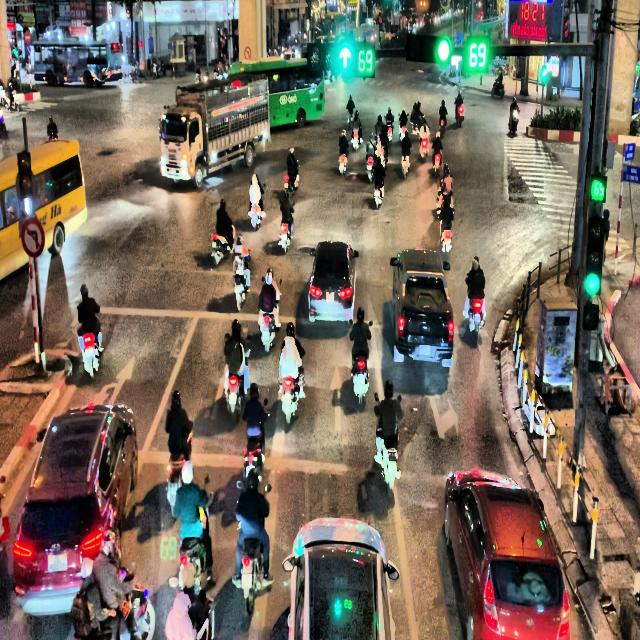lisence_plate: (46, 551, 68, 573), (418, 342, 432, 356), (325, 290, 336, 302)
